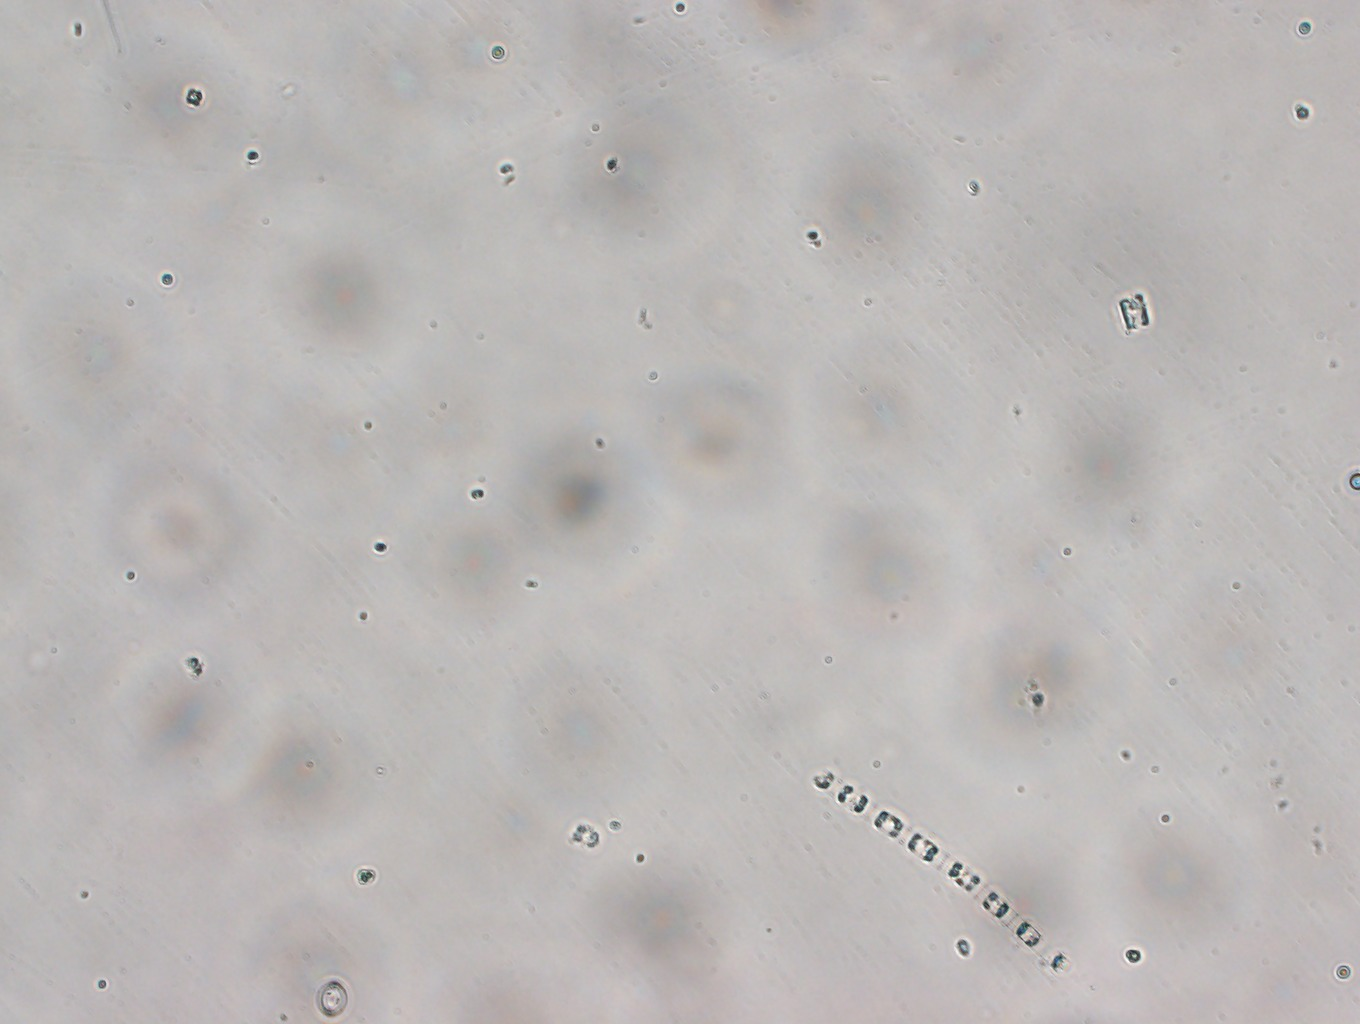skeletonema: (800, 766, 1073, 977)
